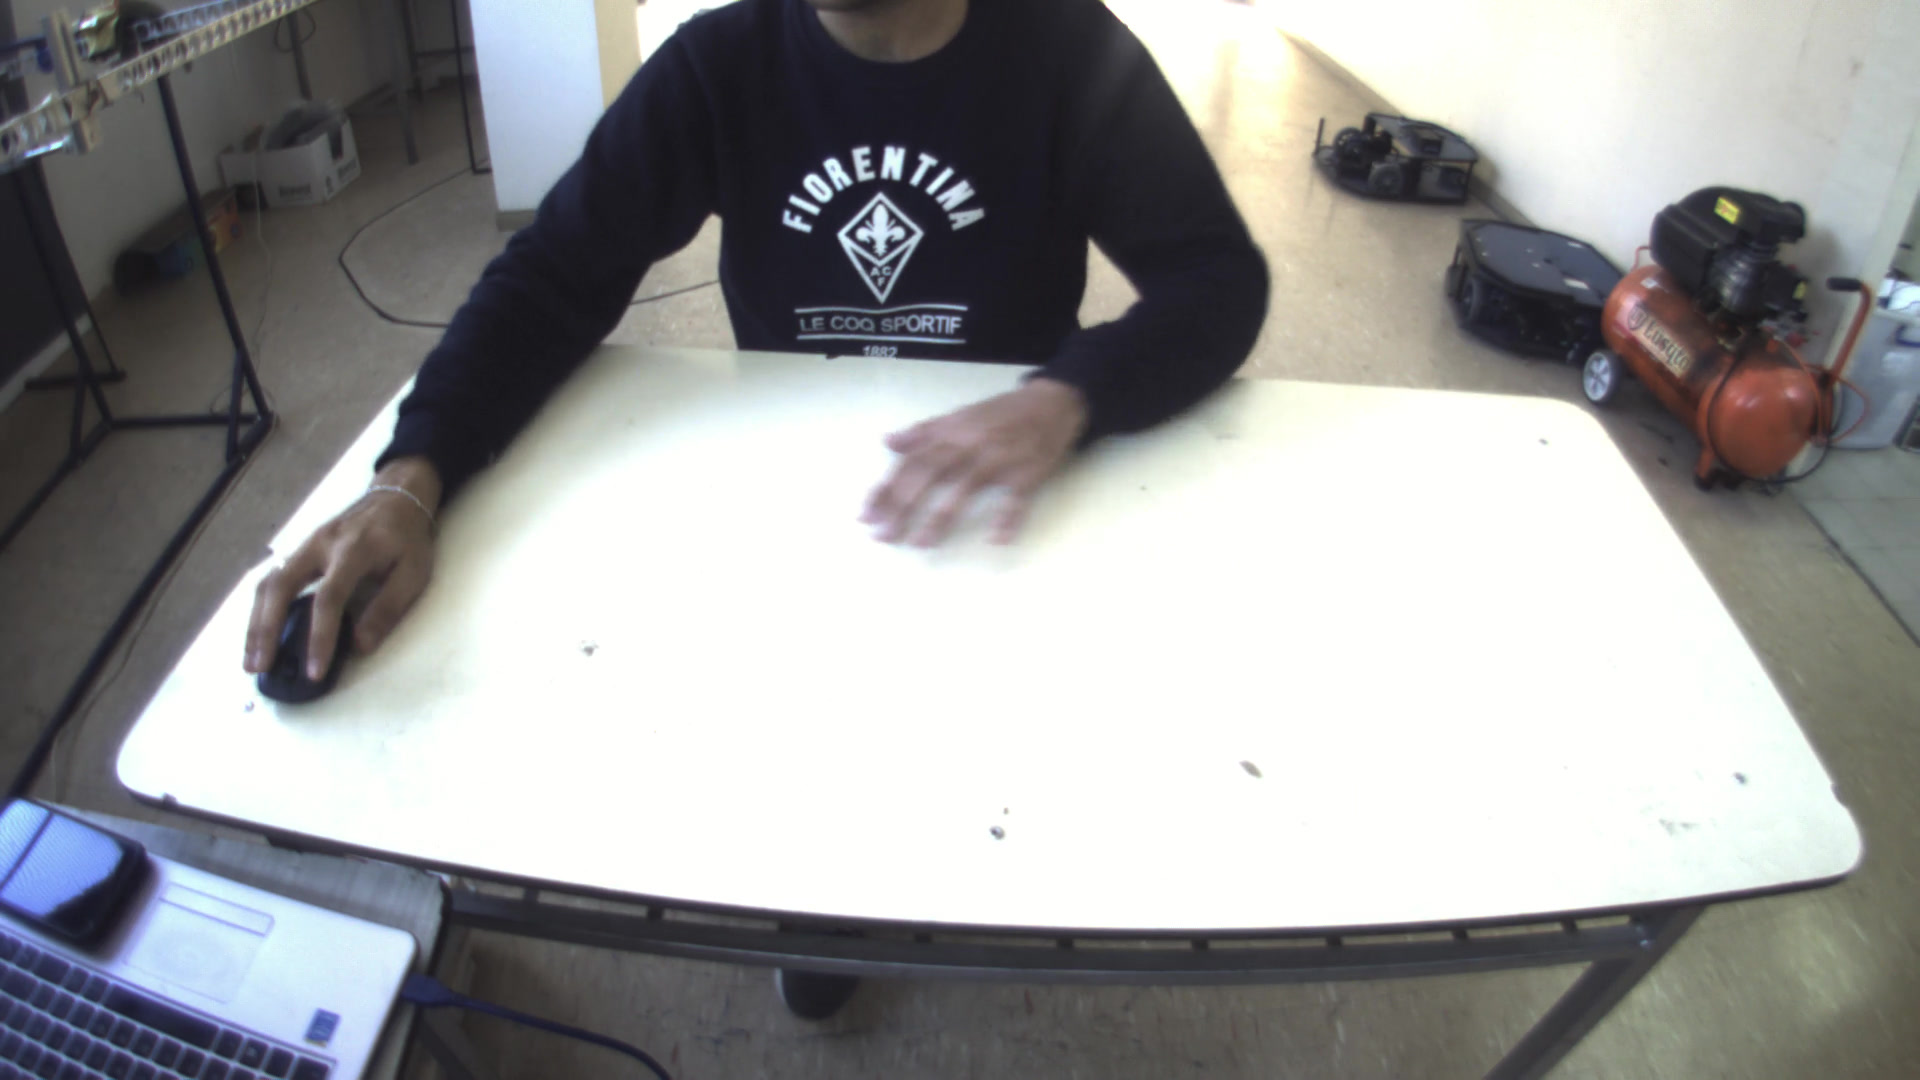hand: (235, 468, 446, 709), (855, 364, 1097, 564)
